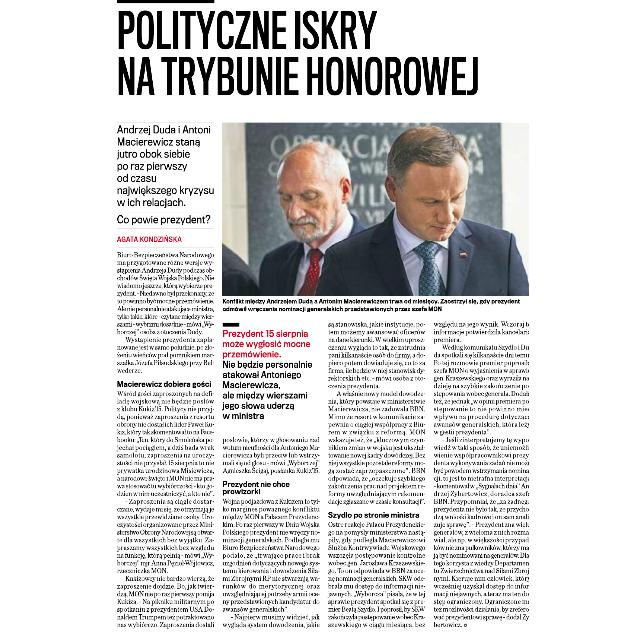author: (114, 232, 186, 246)
body: (114, 250, 216, 630), (326, 319, 428, 631), (432, 318, 528, 630), (220, 434, 324, 630), (220, 321, 314, 422)
caption: (221, 298, 523, 314)
image: (219, 120, 529, 296)
lead: (114, 121, 213, 226)
title: (117, 8, 486, 102)
